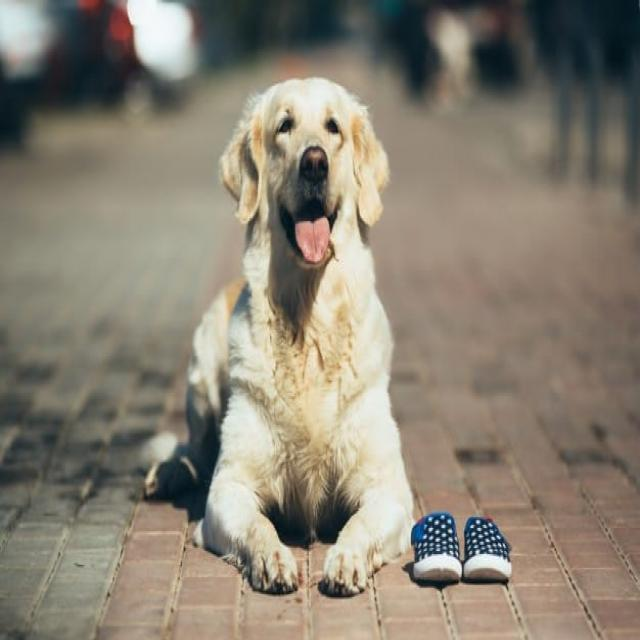laying down: (142, 71, 418, 602)
